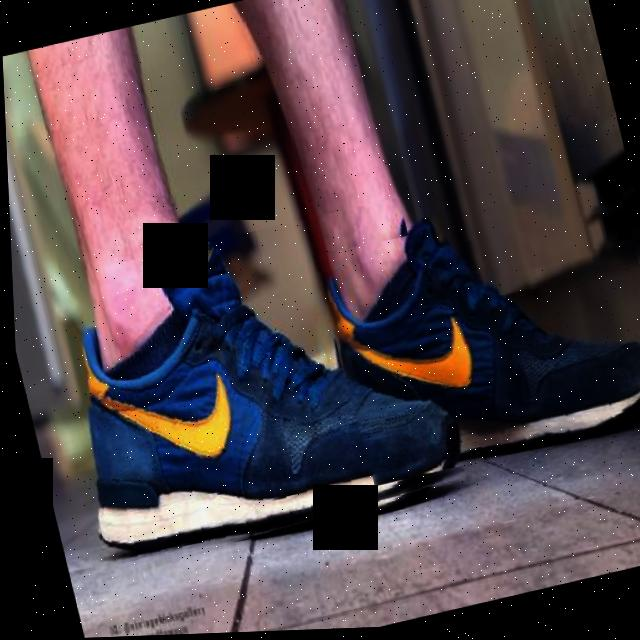shoe: (32, 199, 468, 579), (308, 187, 640, 491)
